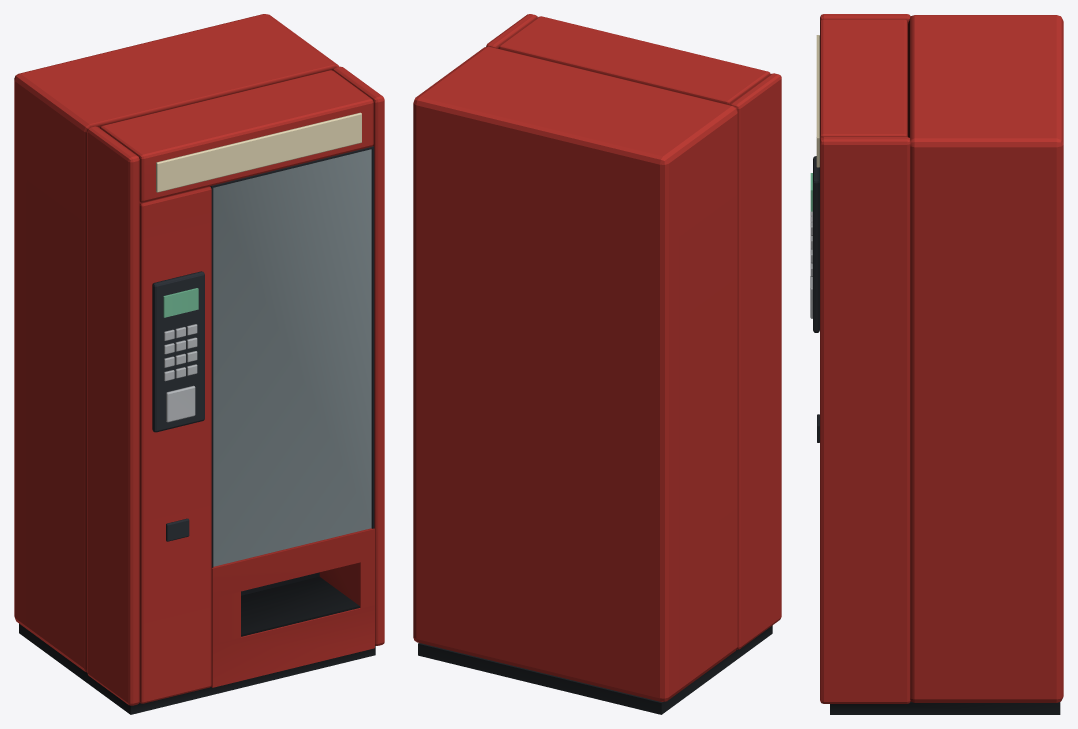
File: vendingSnack.glb
The picture shows the model from 3 angles, left to right: view 1: azimuth 30°, elevation 25°; view 2: azimuth 150°, elevation 25°; view 3: azimuth 270°, elevation 25°; orthographic projection. The views are drawn at different scales.
Visible parts, largest first — view 1: body; view 2: body; view 3: body.
Boxes of the visible parts, x1,y1,x2,y2 form: body: (14, 14, 384, 714); body: (413, 14, 781, 714); body: (810, 14, 1063, 714).
Bounding box in the file's own units: 0.9 × 1.88 × 0.748.
